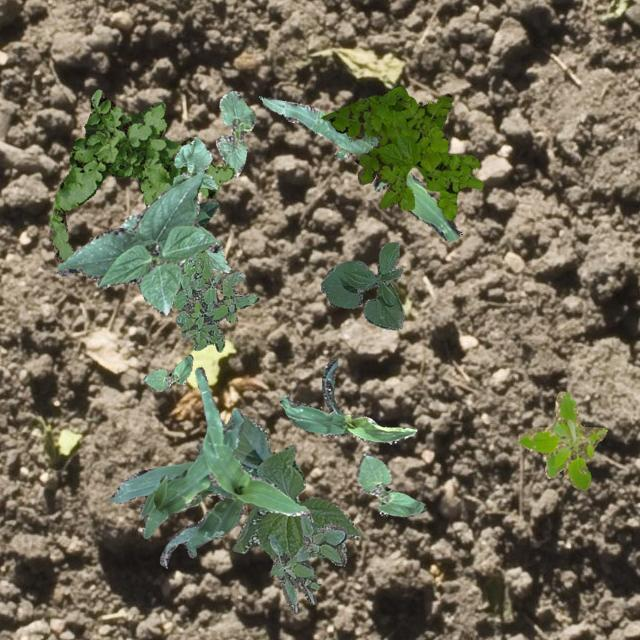crop: (261, 97, 458, 240), (54, 170, 220, 314), (152, 366, 308, 514), (226, 412, 360, 564), (106, 460, 244, 566), (278, 357, 416, 442), (120, 195, 230, 272), (320, 242, 404, 328), (356, 452, 424, 516), (214, 90, 254, 176), (172, 136, 216, 188), (142, 354, 192, 391), (334, 134, 378, 158), (196, 200, 217, 227), (196, 442, 200, 450)
weed: (48, 88, 234, 262), (320, 84, 482, 220), (516, 390, 606, 490), (172, 250, 258, 350), (268, 509, 346, 612)
